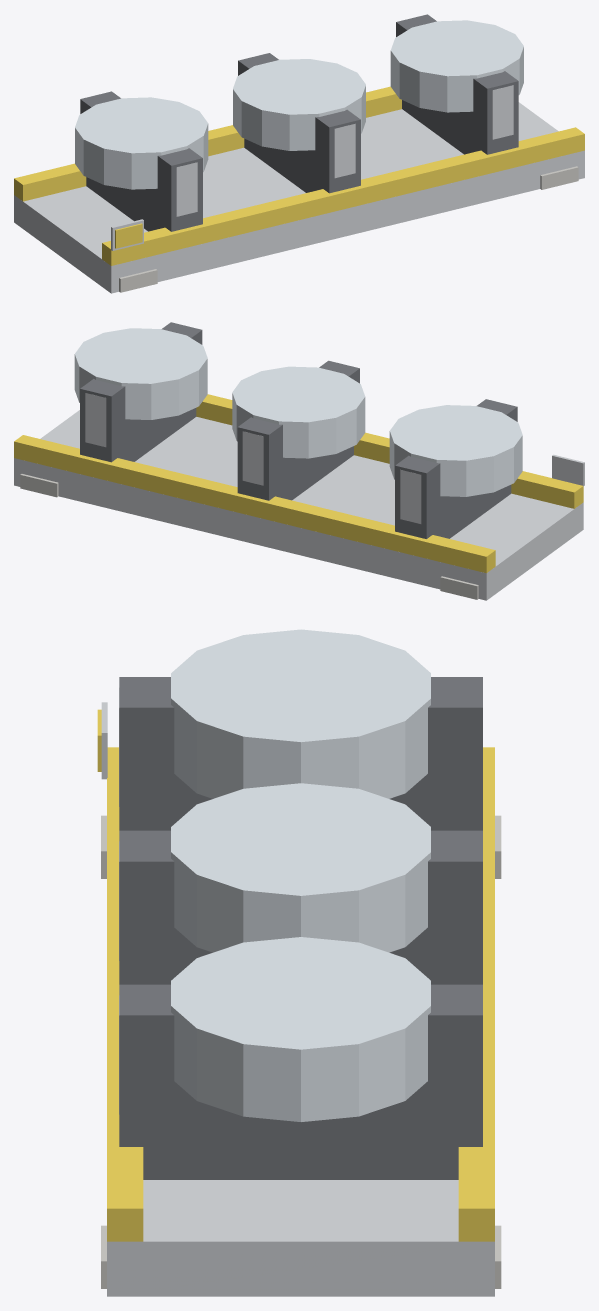
Rendered from rocket-launch-pad-and-gantry-stage-transport-cradle-7c9f60ce.glb.
The picture shows the model from 3 angles, top to bottom: view 1: azimuth 30°, elevation 25°; view 2: azimuth 150°, elevation 25°; view 3: azimuth 270°, elevation 25°; orthographic projection. The views are drawn at different scales.
Parts seen in each view (by area): view 1: stage-transport-cradle; view 2: stage-transport-cradle; view 3: stage-transport-cradle.
Boxes of the visible parts, x1=… form: stage-transport-cradle: x1=14, y1=14, x2=584, y2=293; stage-transport-cradle: x1=14, y1=322, x2=584, y2=600; stage-transport-cradle: x1=97, y1=629, x2=501, y2=1296.
Bounding box in the file's own units: 9 × 2.06 × 3.33.
